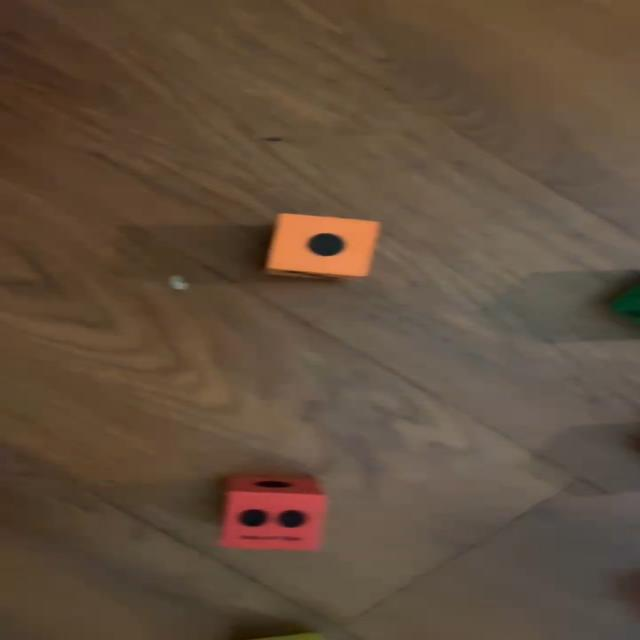red_block: (223, 474, 327, 552), (263, 632, 330, 640)
